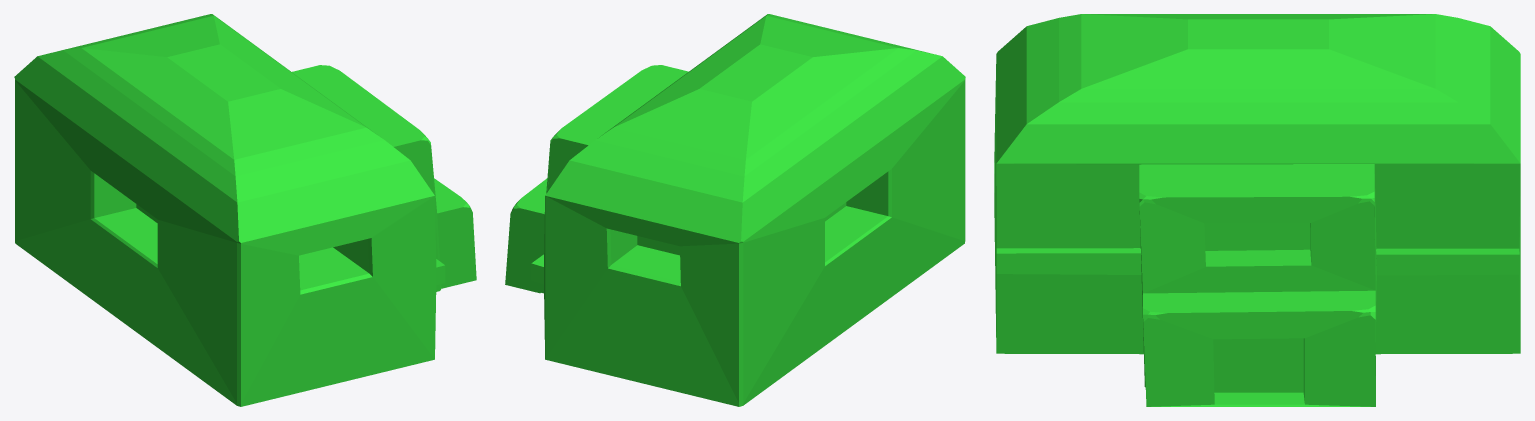
The model's file is CoolerHouse.fbx.
3 views of the same model, side by side, from view 1: azimuth 30°, elevation 25°; view 2: azimuth 150°, elevation 25°; view 3: azimuth 270°, elevation 25° (orthographic). The views are drawn at different scales.
Parts seen in each view (by area): view 1: domek arystokracji.001; view 2: domek arystokracji.001; view 3: domek arystokracji.001.
Boxes of the visible parts, left/top/right/bottom form: domek arystokracji.001: left=14, top=14, right=476, bottom=406; domek arystokracji.001: left=505, top=14, right=965, bottom=406; domek arystokracji.001: left=994, top=14, right=1520, bottom=406.
Size of the model in its own units: 1560 by 2008 by 1111.
